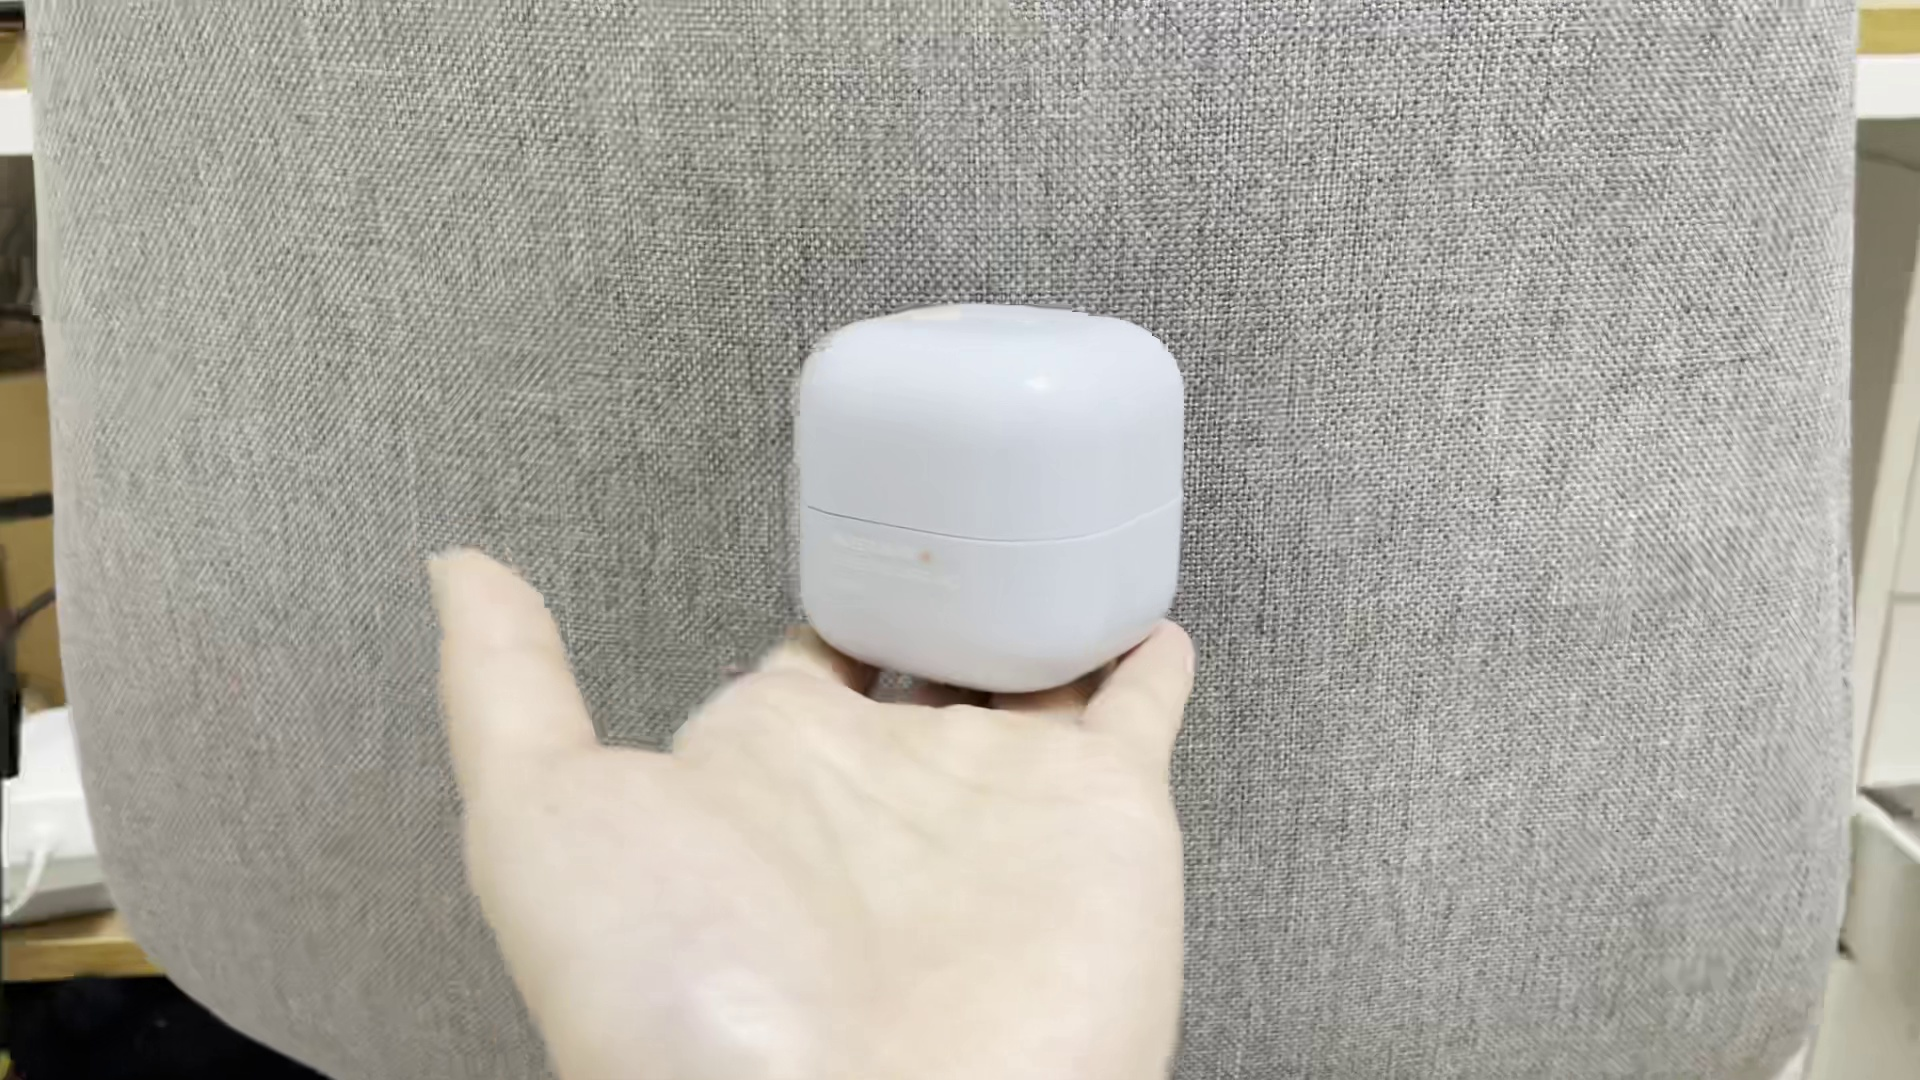cream: (798, 301, 1178, 698)
